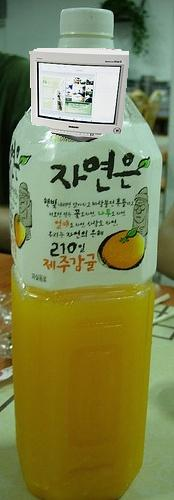tampered: (30, 49, 129, 142)
